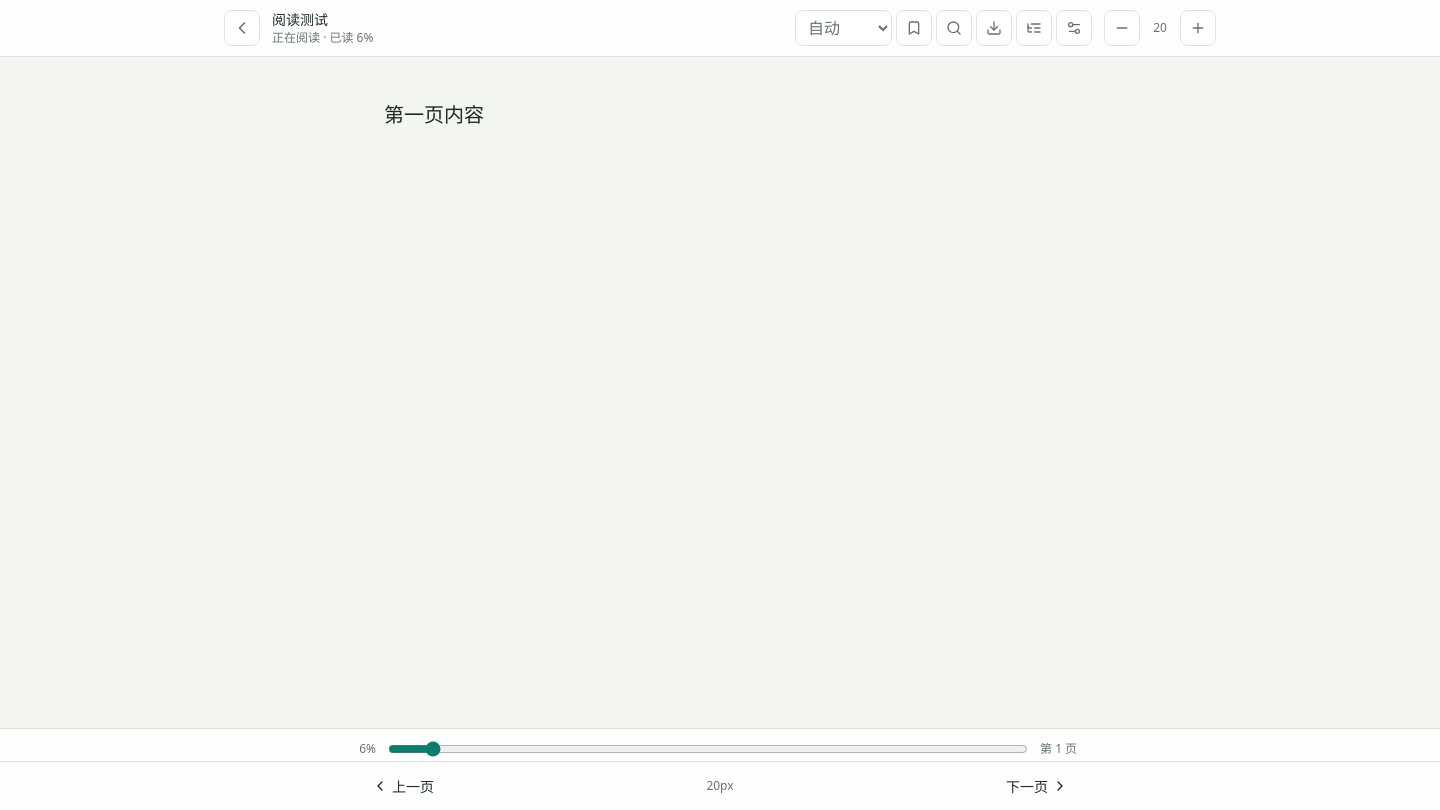
Test: Reader › changes font size and persists it
Expected: the text "第一页内容" is shown, [384,101,484,128]
Step 1. Click the button titled "增大字号" → (1198,28), box [1180,10,1216,46]
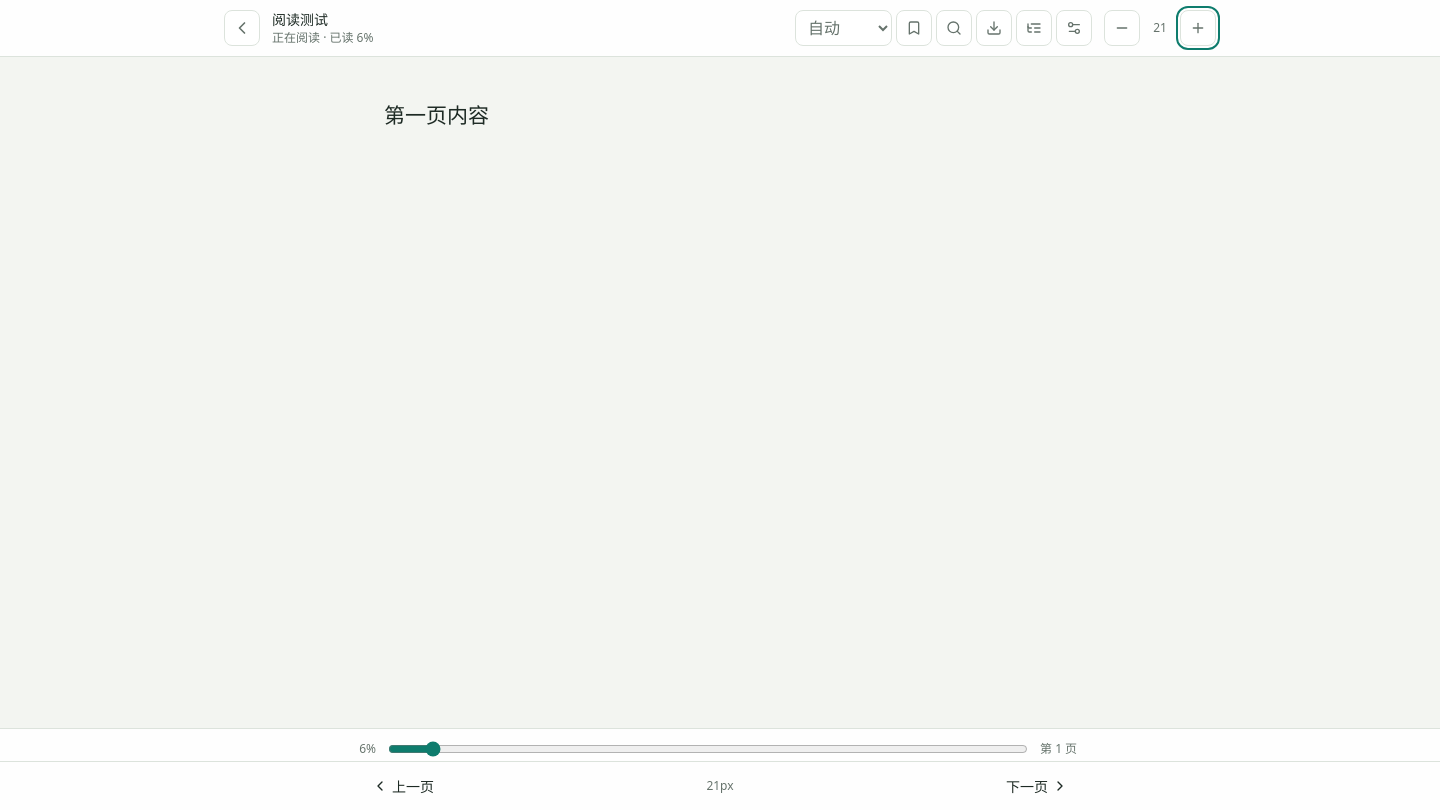
Expected: the text "21" is shown, [1153,19,1167,36]
